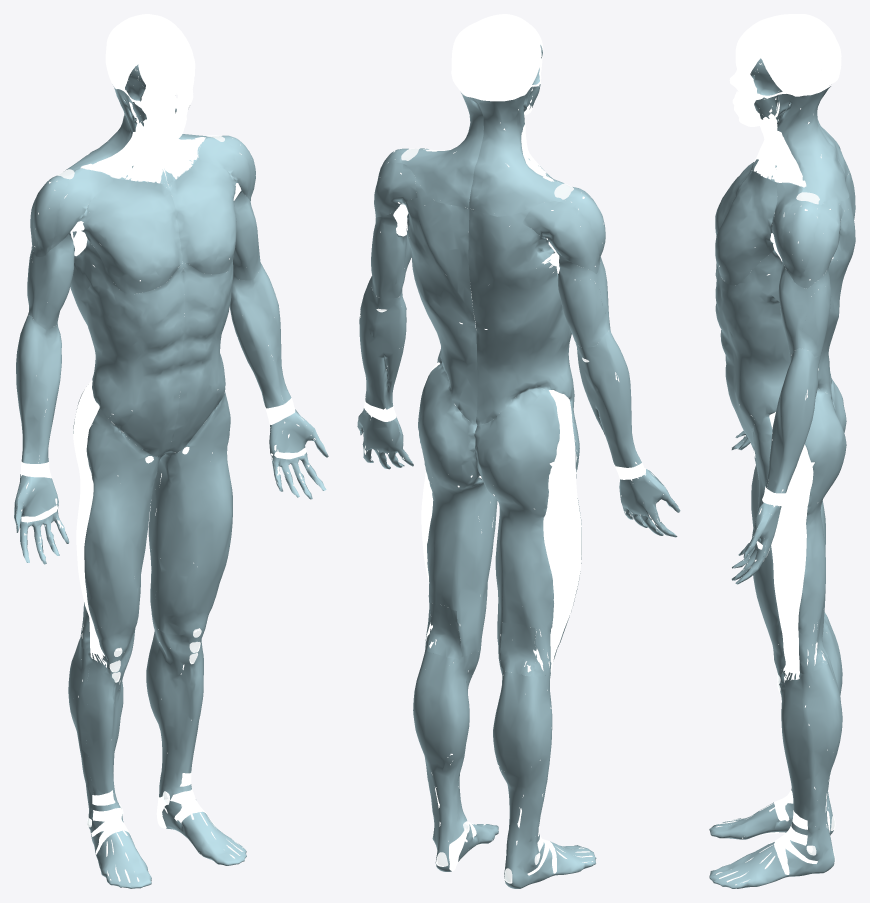
Rendered from muscles.glb.
3 renders of one model, left to right at view 1: azimuth 30°, elevation 25°; view 2: azimuth 150°, elevation 25°; view 3: azimuth 270°, elevation 25°, orthographic. The views are drawn at different scales.
Parts seen in each view (by area): view 1: Investing abdominal fascia.r, Fascia lata.l, Fascia lata.r, Crural fascia.l, Crural fascia.r, Pectoral fascia.r, Investing abdominal fascia.l, Pectoral fascia.l, Antebrachial fascia.r, Antebrachial fascia.l, Deltoid fascia.r, Brachial fascia.r (+13 smaller); view 2: Investing abdominal fascia.r, Fascia lata.r, Fascia lata.l, Crural fascia.r, Investing abdominal fascia.l, Crural fascia.l, Superficial investing cervical fascia.r, Iliotibial tract.r, Antebrachial fascia.r, Antebrachial fascia.l, Deltoid fascia.r, Superficial investing cervical fascia.l (+11 smaller); view 3: Investing abdominal fascia.l, Crural fascia.l, Fascia lata.l, Iliotibial tract.l, Deltoid fascia.l, Pectoral fascia.l, Superficial investing cervical fascia.l, Antebrachial fascia.l, Brachial fascia.l, Epicranial aponeurosis.l, Crural fascia.r, Temporoparietalis muscle.l (+13 smaller).
Boxes of the visible parts, bbox=[...] form: Investing abdominal fascia.r: bbox=[70, 239, 184, 456]; Fascia lata.l: bbox=[148, 391, 232, 637]; Fascia lata.r: bbox=[73, 391, 165, 658]; Crural fascia.l: bbox=[146, 621, 246, 865]; Crural fascia.r: bbox=[68, 637, 151, 888]; Pectoral fascia.r: bbox=[78, 178, 182, 294]; Investing abdominal fascia.l: bbox=[167, 262, 233, 452]; Pectoral fascia.l: bbox=[168, 158, 237, 274]; Antebrachial fascia.r: bbox=[16, 315, 61, 463]; Antebrachial fascia.l: bbox=[230, 262, 291, 408]; Deltoid fascia.r: bbox=[30, 169, 113, 257]; Brachial fascia.r: bbox=[27, 232, 74, 329]; Investing abdominal fascia.r: bbox=[468, 206, 574, 425]; Fascia lata.r: bbox=[474, 389, 581, 677]; Fascia lata.l: bbox=[418, 363, 497, 656]; Crural fascia.r: bbox=[493, 665, 596, 888]; Investing abdominal fascia.l: bbox=[401, 177, 477, 424]; Crural fascia.l: bbox=[413, 649, 498, 871]; Superficial investing cervical fascia.r: bbox=[469, 86, 570, 216]; Iliotibial tract.r: bbox=[543, 390, 581, 676]; Antebrachial fascia.r: bbox=[575, 329, 641, 467]; Antebrachial fascia.l: bbox=[359, 276, 406, 409]; Deltoid fascia.r: bbox=[522, 173, 605, 273]; Superficial investing cervical fascia.l: bbox=[400, 93, 483, 208]; Investing abdominal fascia.l: bbox=[715, 194, 855, 447]; Crural fascia.l: bbox=[709, 656, 842, 888]; Fascia lata.l: bbox=[752, 388, 846, 673]; Iliotibial tract.l: bbox=[769, 412, 813, 682]; Deltoid fascia.l: bbox=[772, 182, 844, 288]; Pectoral fascia.l: bbox=[715, 171, 777, 285]; Superficial investing cervical fascia.l: bbox=[753, 86, 849, 205]; Antebrachial fascia.l: bbox=[765, 348, 821, 493]; Brachial fascia.l: bbox=[778, 260, 831, 357]; Epicranial aponeurosis.l: bbox=[739, 18, 841, 77]; Crural fascia.r: bbox=[709, 617, 842, 839]; Temporoparietalis muscle.l: bbox=[760, 46, 822, 96].
Size of the model in its own units: 0.6713 by 1.7 by 0.2687.
